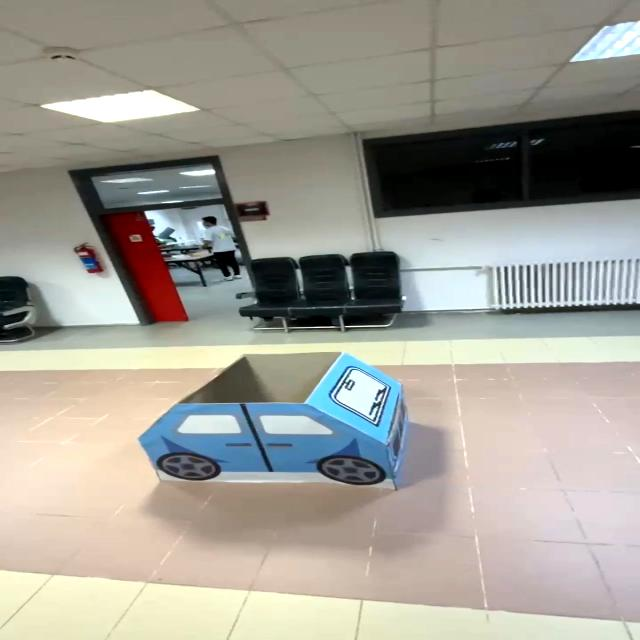blue_car: (104, 337, 444, 513)
